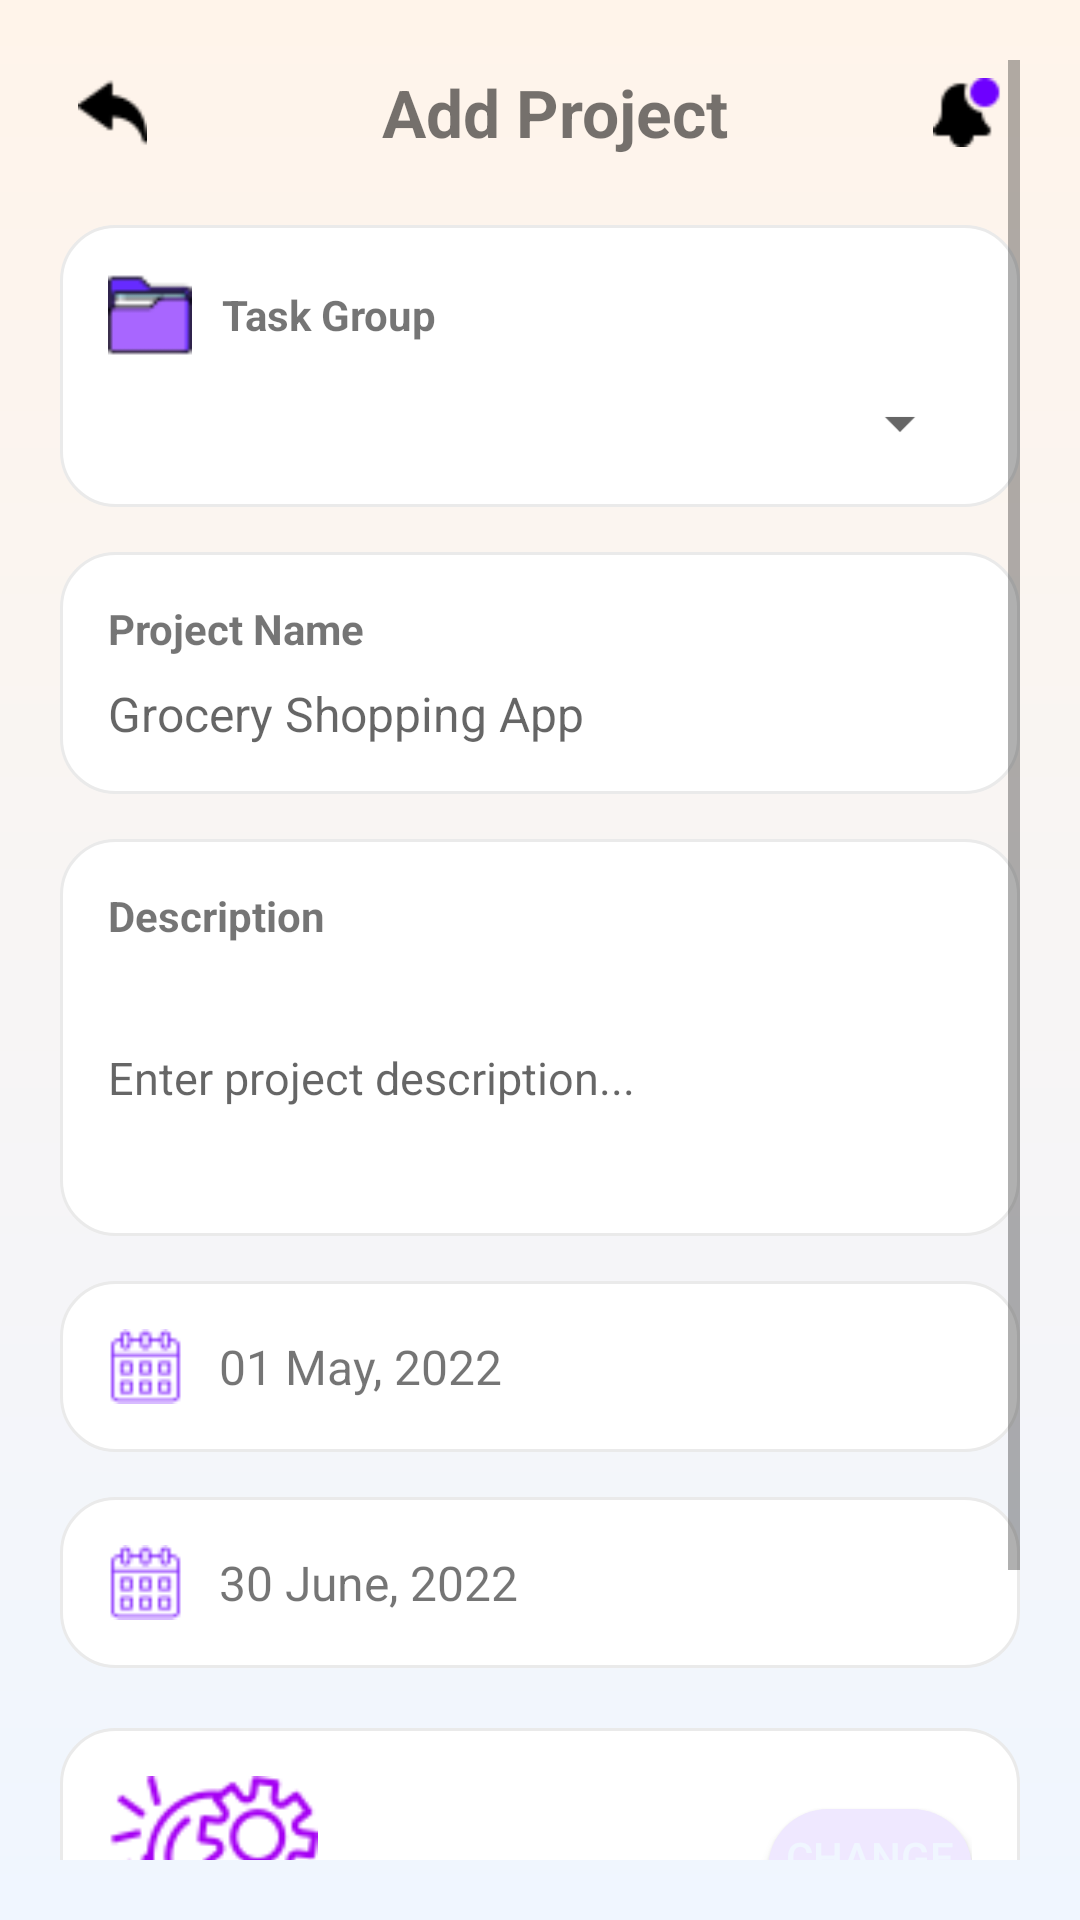

Where icons sit on this 1080 × 1920 app screen, as (x1, y1, x2, y2):
back: (78, 80, 147, 145)
calendar: (110, 1329, 181, 1404), (110, 1545, 181, 1620)
folder: (108, 275, 192, 355)
